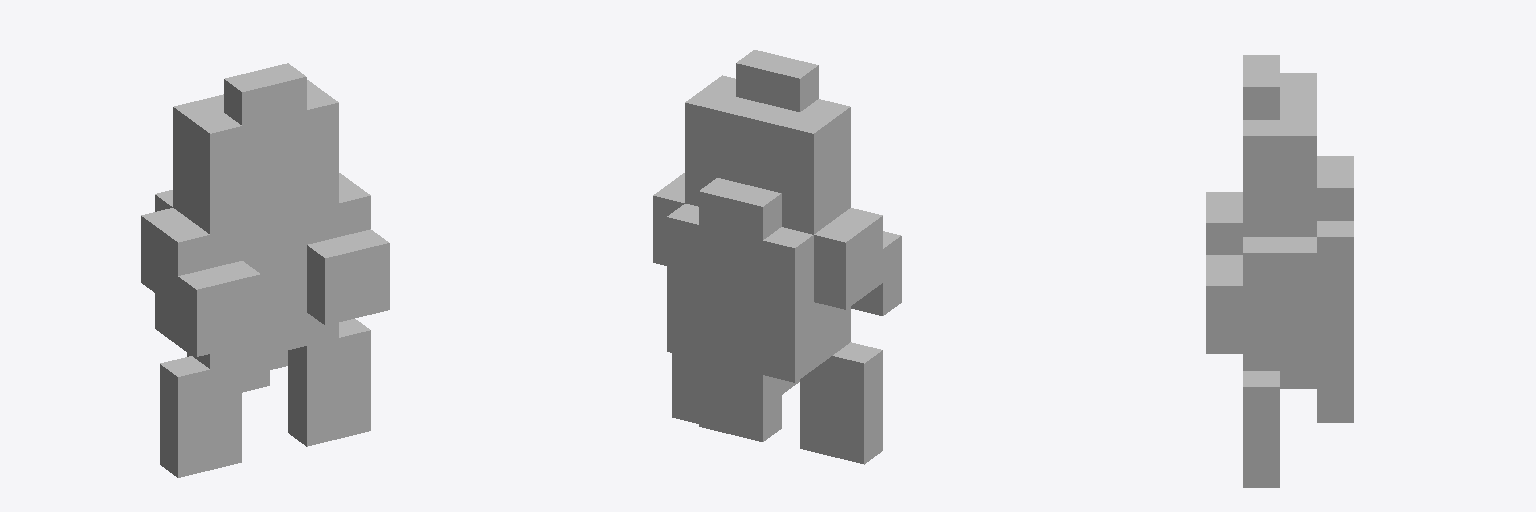
Rendered from MoleEjected.obj.
3 views of the same model, side by side, from view 1: azimuth 30°, elevation 25°; view 2: azimuth 150°, elevation 25°; view 3: azimuth 270°, elevation 25° (orthographic).
Bounding box in the file's own units: 6 × 11 × 4.